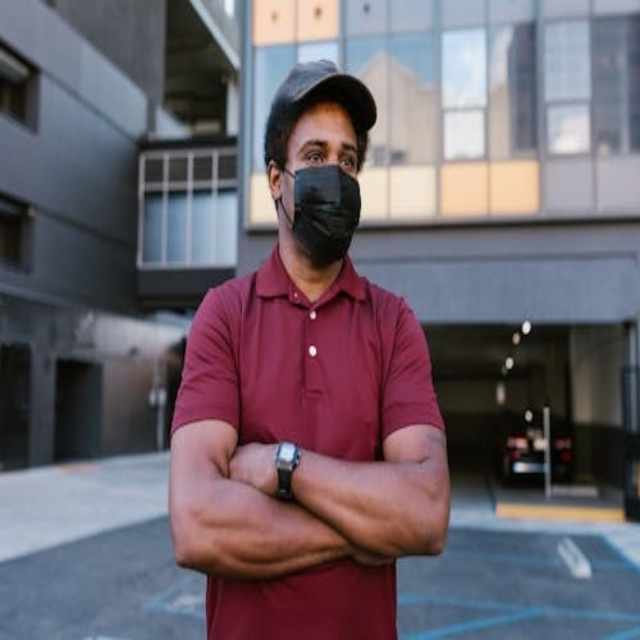Mascara: (281, 164, 360, 259)
Sin_gafas: (291, 129, 361, 173)
